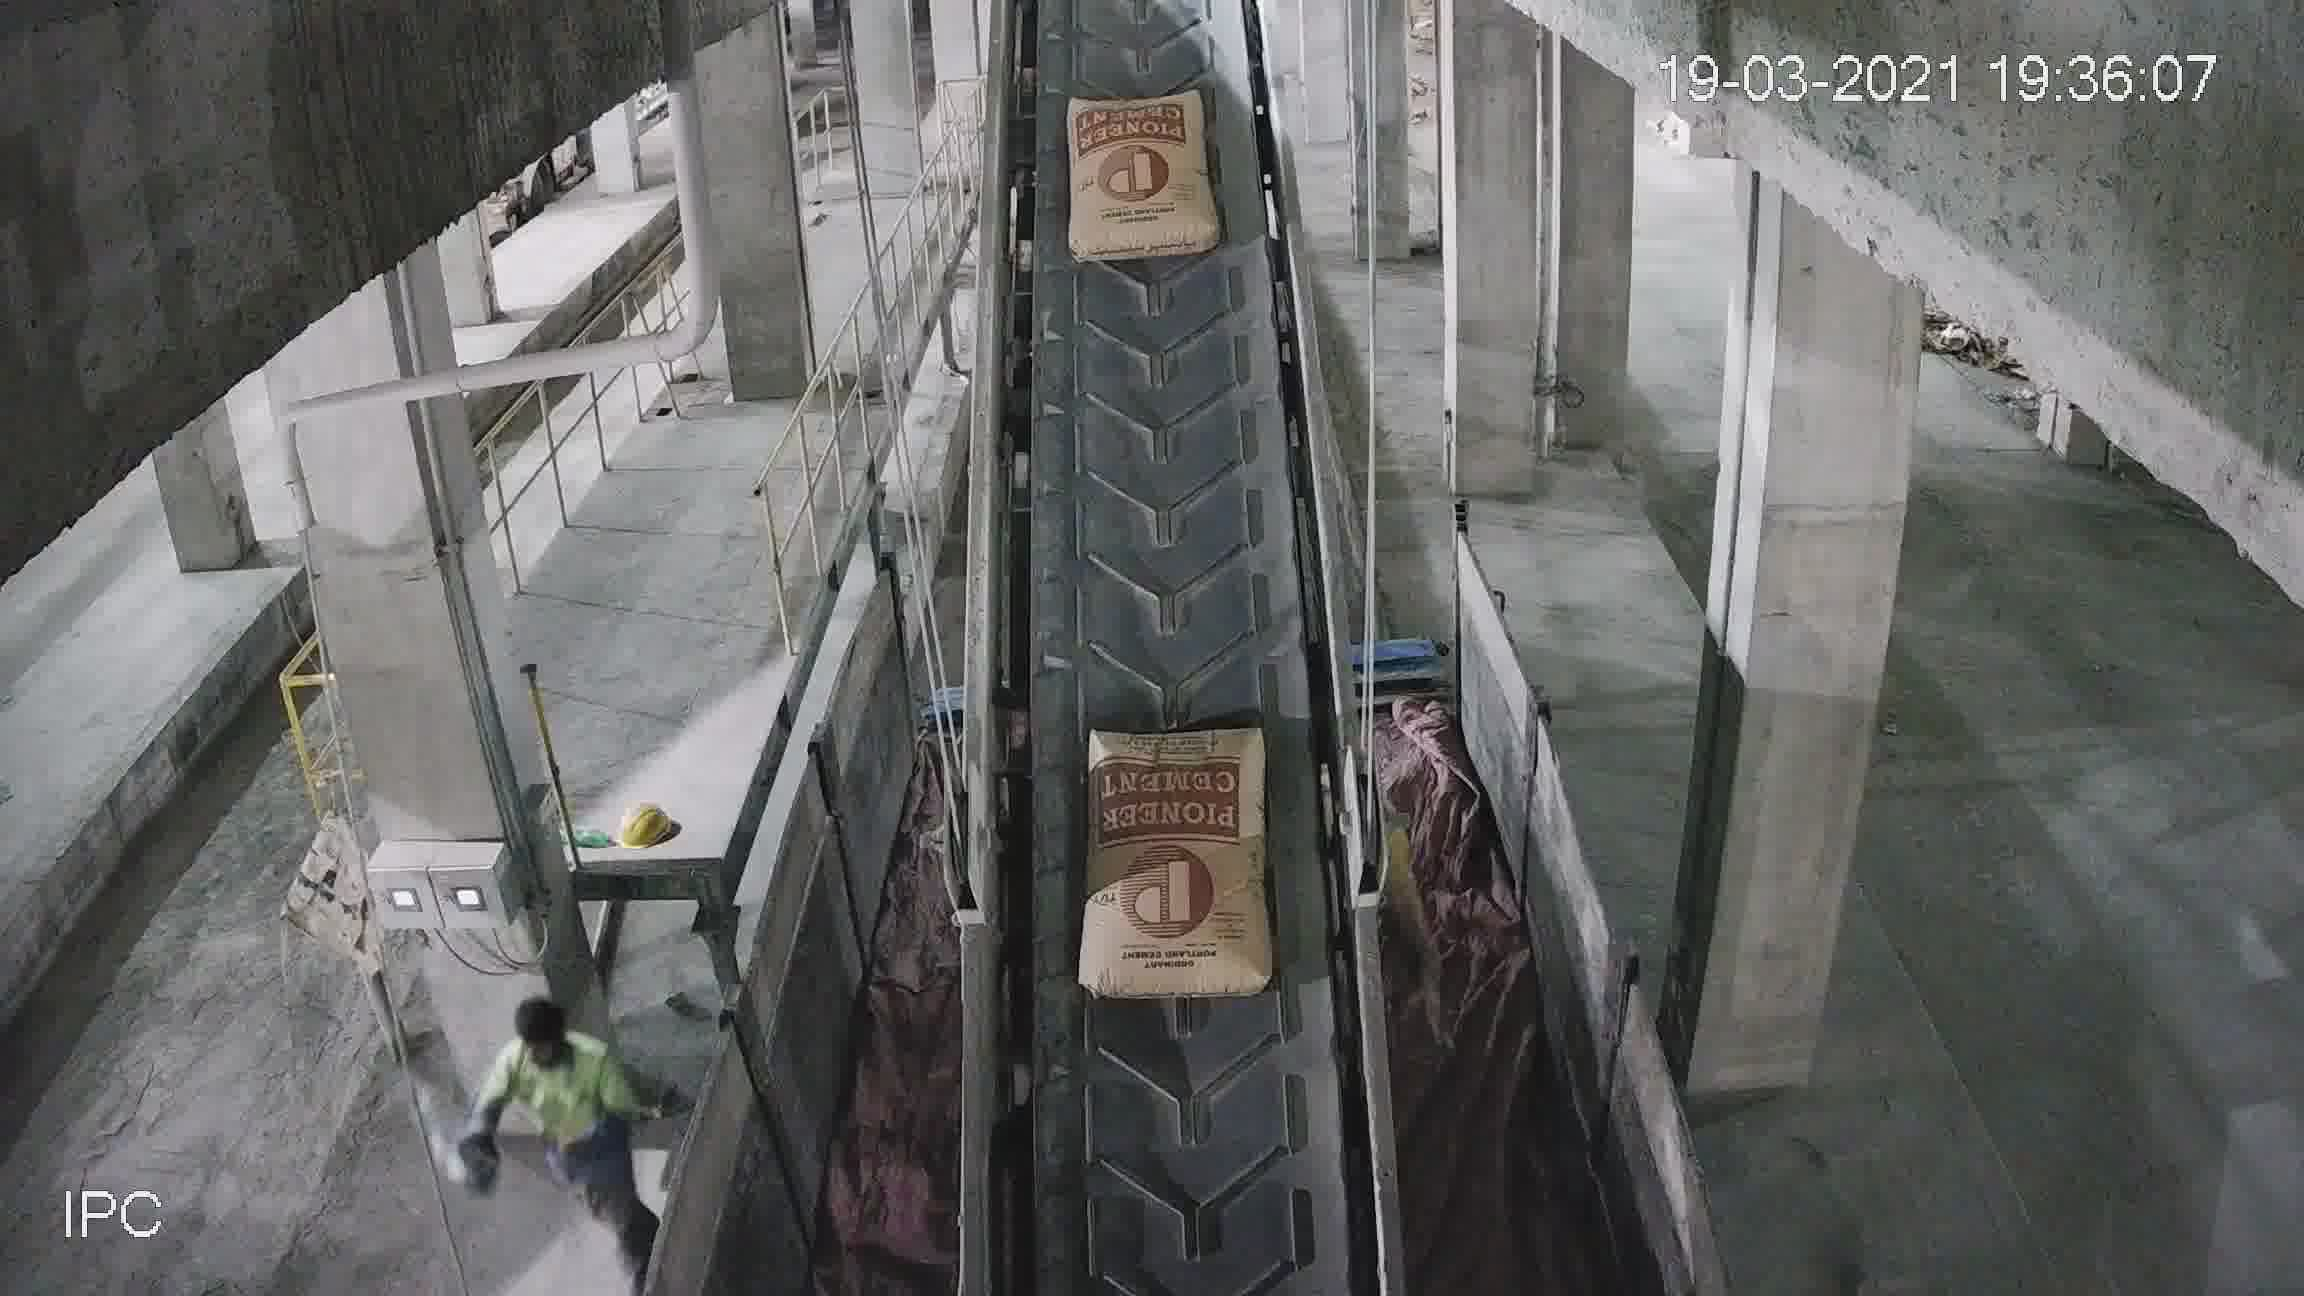bag: (1082, 733, 1280, 1008), (1067, 95, 1214, 263)
belt: (967, 28, 1378, 1294)
